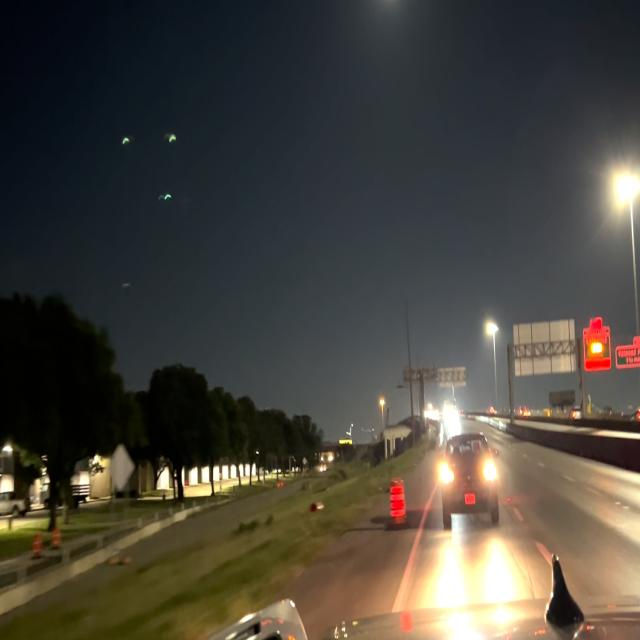back-of-sign: (512, 316, 579, 379), (108, 441, 135, 490), (435, 362, 468, 393)
